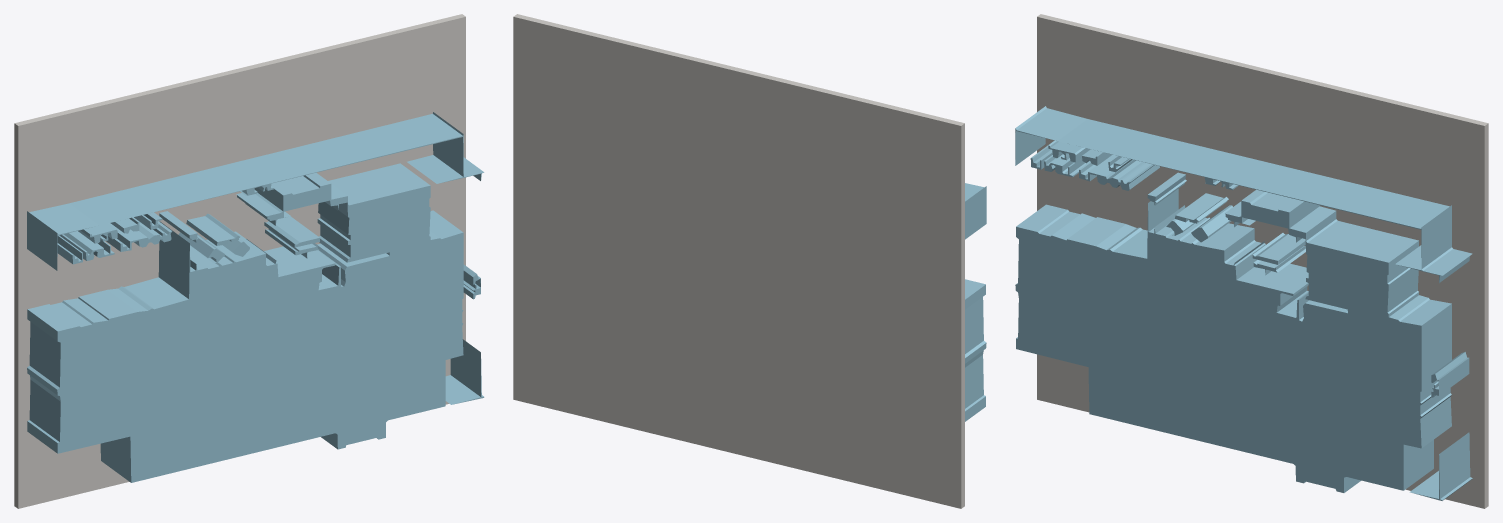
3 renders of one model, left to right at view 1: azimuth 30°, elevation 25°; view 2: azimuth 150°, elevation 25°; view 3: azimuth 330°, elevation 25°, orthographic.
Visible parts, largest first — view 1: world; view 2: world; view 3: world.
Boxes of the visible parts, x1,y1,x2,y2 form: world: (14, 14, 484, 508); world: (513, 14, 986, 508); world: (1015, 14, 1488, 508).
Bounding box in the file's own units: 10.23 × 8.36 × 1.35.
